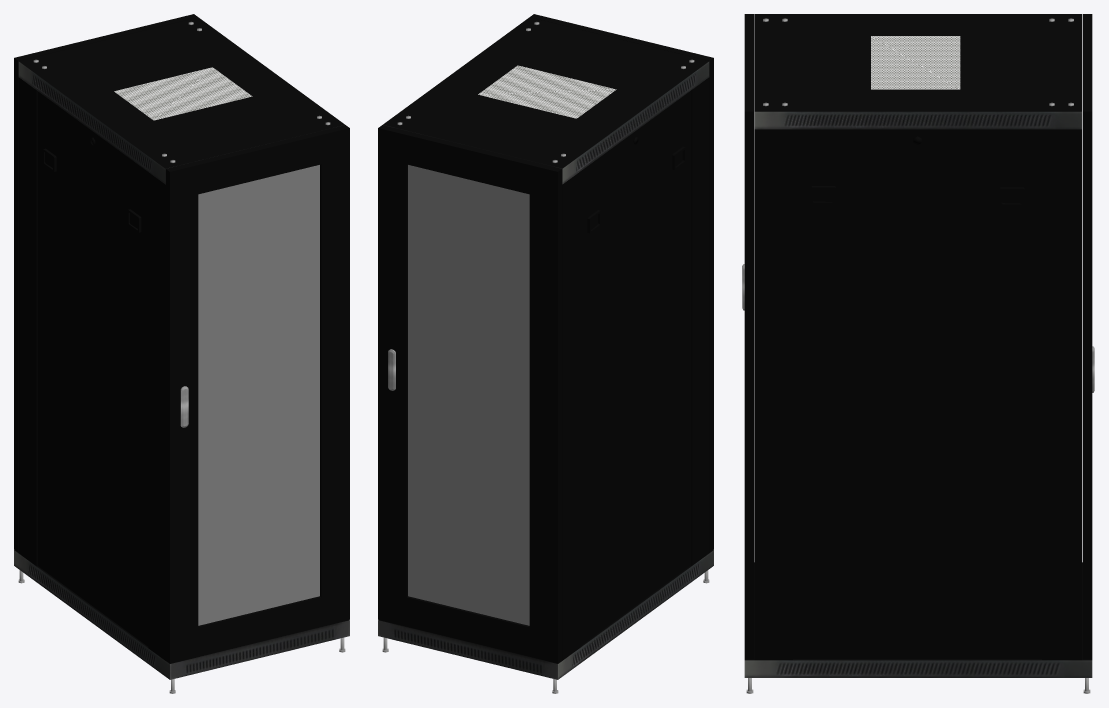
The model's file is RKAB33.fbx.
3 renders of one model, left to right at view 1: azimuth 30°, elevation 25°; view 2: azimuth 150°, elevation 25°; view 3: azimuth 270°, elevation 25°, orthographic. The views are drawn at different scales.
Visible parts, largest first — view 1: frontdoor, RKAB33, Box136, backdoor; view 2: backdoor, RKAB33, Box136, frontdoor; view 3: RKAB33, Box136, backdoor, frontdoor.
Part boxes in pixels (x1,y1,x2,y2): frontdoor: [165, 125, 349, 663]; RKAB33: [37, 91, 148, 646]; Box136: [14, 17, 349, 693]; backdoor: [14, 14, 197, 552]; backdoor: [378, 125, 562, 663]; RKAB33: [580, 90, 691, 645]; Box136: [378, 17, 713, 693]; frontdoor: [530, 14, 713, 552]; RKAB33: [793, 129, 1041, 658]; Box136: [744, 14, 1092, 693]; backdoor: [1082, 14, 1094, 659]; frontdoor: [742, 14, 754, 659].
Bounding box in the file's own units: 610 × 1672 × 913.
Materials: 6 (4 with a texture image).
